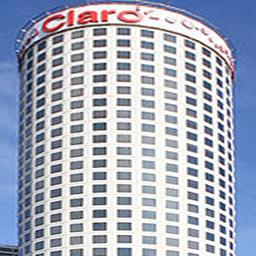building: (16, 0, 238, 256)
